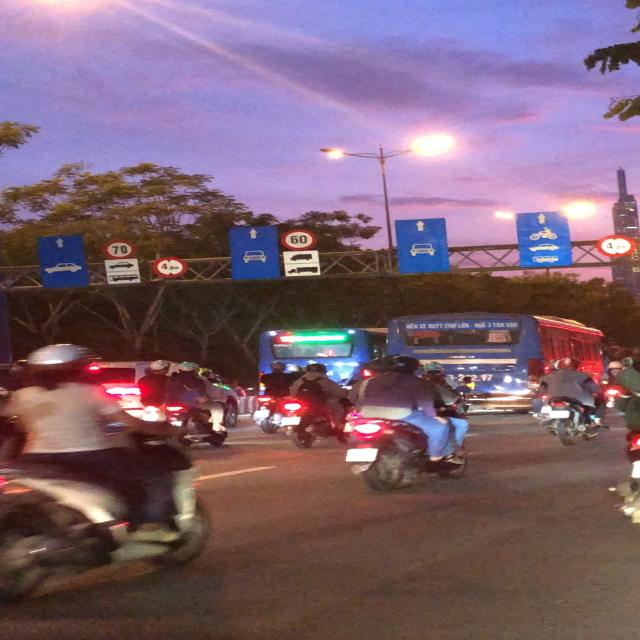Bien bao han che chieu cao: (595, 234, 638, 259), (153, 255, 189, 278)
Bien bao toc do toi da cho phep: (275, 227, 323, 252), (100, 239, 139, 259)
